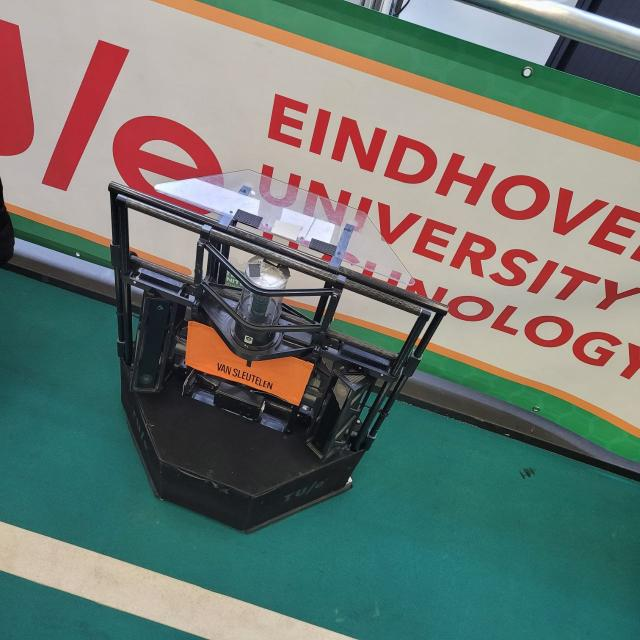robot: (92, 137, 468, 550)
